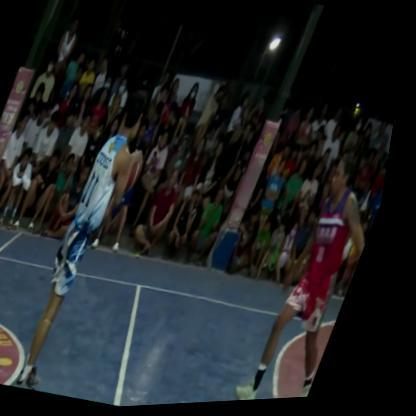basketball: (117, 146, 156, 202)
